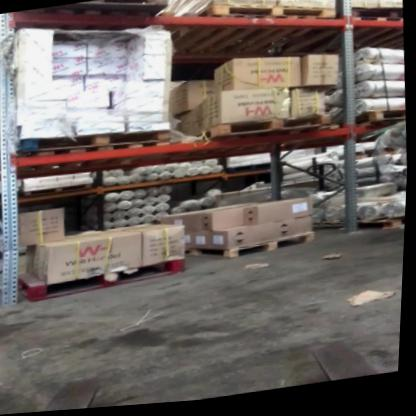vertical_damage: (3, 239, 28, 271)
